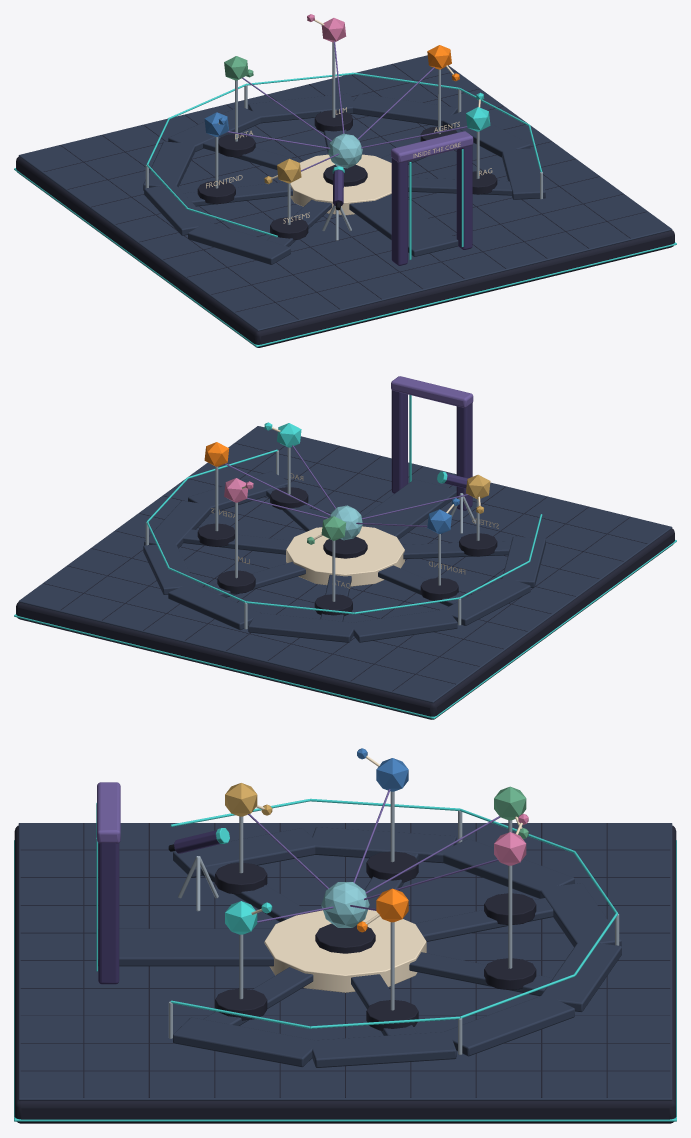
Rendered from brain_inside.glb.
3 views of the same model, one above another, from view 1: azimuth 30°, elevation 25°; view 2: azimuth 150°, elevation 25°; view 3: azimuth 270°, elevation 25° (orthographic). The views are drawn at different scales.
Visible parts, largest first — view 1: Satin floor.007, Foundation.007, Brain_CentreDeck, Brain_EntranceBridge, Brain_RingDeck_07, Brain_RingDeck_02, Brain_RingDeck_03, Brain_PortalPillar_-1, Brain_RingDeck_06, Brain_RingDeck_00, Brain_PortalPillar_1, District seam.007 (+15 smaller); view 2: Satin floor.007, Foundation.007, Brain_CentreDeck, Brain_EntranceBridge, Brain_RingDeck_04, Brain_RingDeck_05, Brain_RingDeck_03, Brain_RingDeck_06, Brain_PortalPillar_1, Brain_RingDeck_01, Brain_RingDeck_02, District seam.007 (+18 smaller); view 3: Satin floor.007, Foundation.007, Brain_CentreDeck, Brain_EntranceBridge, Brain_RingDeck_01, Brain_RingDeck_00, Brain_RingDeck_02, Brain_RingDeck_06, Brain_RingDeck_07, Brain_RingDeck_05, Brain_PortalPillar_1, Brain_RingDeck_03 (+25 smaller).
Boxes of the visible parts, box(x1,y1,x2,y2) form: Satin floor.007: box(18, 55, 672, 331); Foundation.007: box(16, 156, 674, 347); Brain_CentreDeck: box(290, 154, 391, 215); Brain_EntranceBridge: box(349, 194, 458, 256); Brain_RingDeck_07: box(188, 222, 290, 264); Brain_RingDeck_02: box(350, 94, 457, 125); Brain_RingDeck_03: box(248, 93, 354, 123); Brain_PortalPillar_-1: box(391, 158, 407, 265); Brain_RingDeck_06: box(144, 184, 210, 235); Brain_RingDeck_00: box(502, 148, 545, 199); Brain_PortalPillar_1: box(456, 145, 472, 249); District seam.007: box(14, 168, 676, 347); Satin floor.007: box(18, 426, 672, 703); Foundation.007: box(16, 528, 674, 719); Brain_CentreDeck: box(286, 526, 404, 586); Brain_EntranceBridge: box(362, 479, 456, 539); Brain_RingDeck_04: box(248, 613, 355, 642); Brain_RingDeck_05: box(353, 609, 457, 642); Brain_RingDeck_03: box(168, 584, 261, 630); Brain_RingDeck_06: box(443, 578, 530, 625); Brain_PortalPillar_1: box(391, 390, 407, 493); Brain_RingDeck_01: box(144, 500, 210, 548); Brain_RingDeck_02: box(143, 543, 194, 594); District seam.007: box(14, 540, 676, 718); Satin floor.007: box(18, 823, 672, 1100); Foundation.007: box(14, 825, 676, 1123); Brain_CentreDeck: box(264, 909, 426, 992); Brain_EntranceBridge: box(98, 928, 273, 966); Brain_RingDeck_01: box(312, 1032, 456, 1067); Brain_RingDeck_00: box(173, 1017, 318, 1067); Brain_RingDeck_02: box(444, 995, 574, 1056); Brain_RingDeck_06: box(310, 827, 456, 863); Brain_RingDeck_07: box(173, 828, 318, 877); Brain_RingDeck_05: box(441, 839, 574, 898); Brain_PortalPillar_1: box(98, 842, 119, 984); Brain_RingDeck_03: box(541, 941, 621, 1012).
Bounding box in the file's own units: 10.14 × 3.26 × 10.14.
